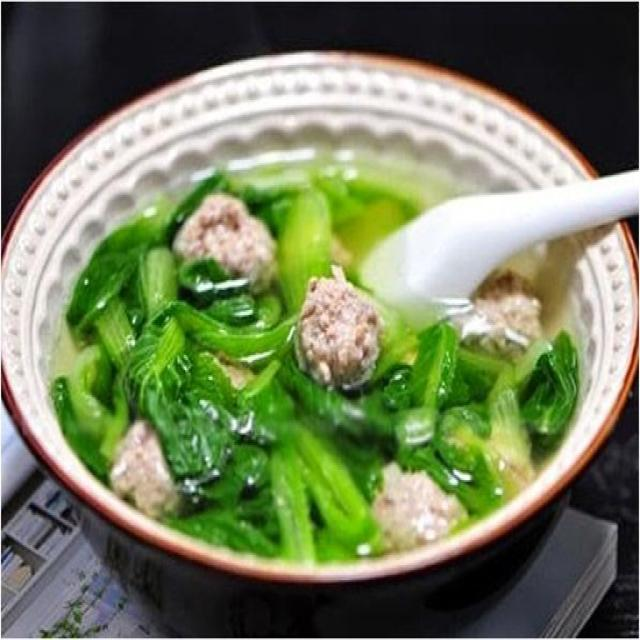canh cai: (54, 158, 569, 565)
